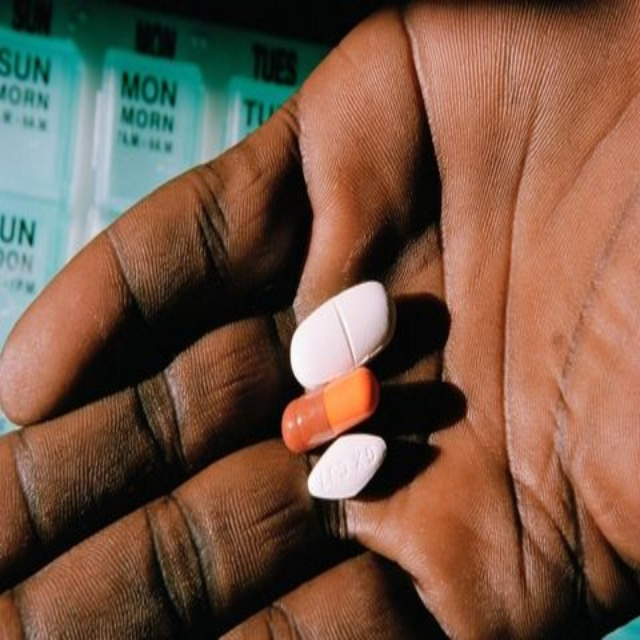pill: (215, 137, 299, 192), (208, 183, 286, 228), (229, 213, 290, 251)
